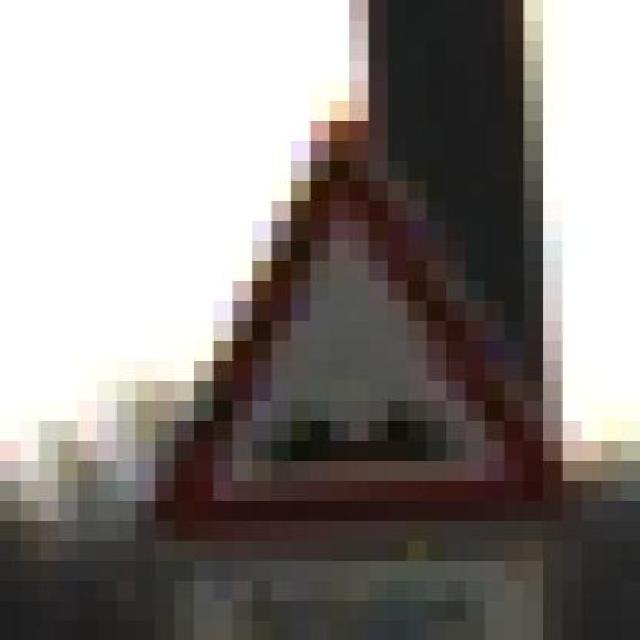Uneven Road: (136, 80, 602, 580)
